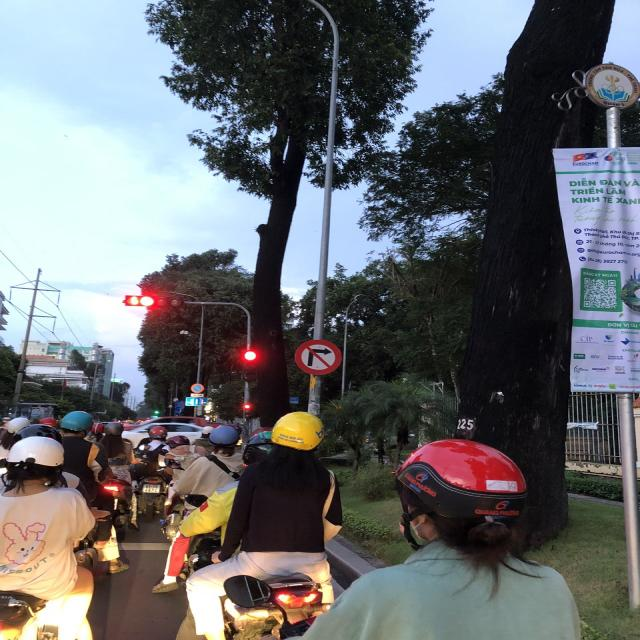Bien bao cam re phai: (290, 337, 346, 378)
